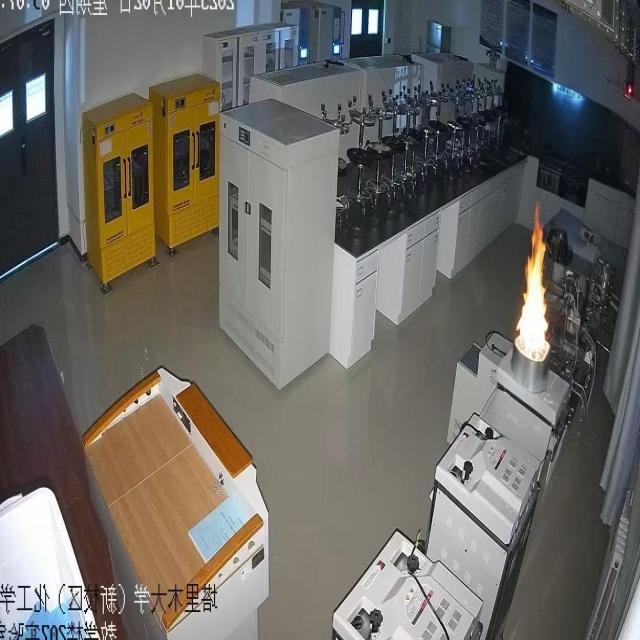smoke: (512, 205, 552, 364)
